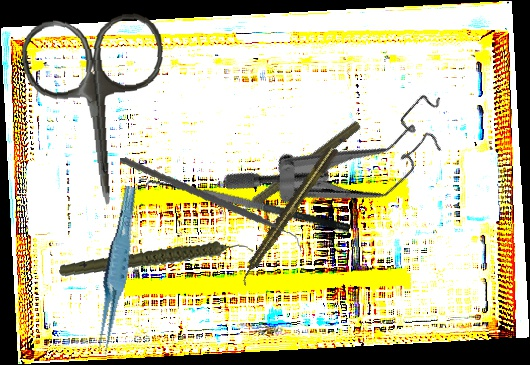Chopper: (119, 134, 302, 276)
Handpiece: (225, 115, 364, 226), (234, 143, 341, 287), (58, 223, 255, 298)
Iris Scissors: (18, 11, 177, 212)
Spatula Surgical: (142, 168, 352, 251)
Speculum: (217, 31, 470, 277)
Tissue Forceps: (83, 185, 149, 356)
